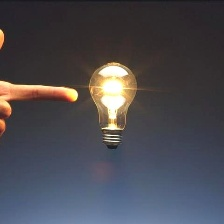light_bulb: (86, 59, 139, 155)
